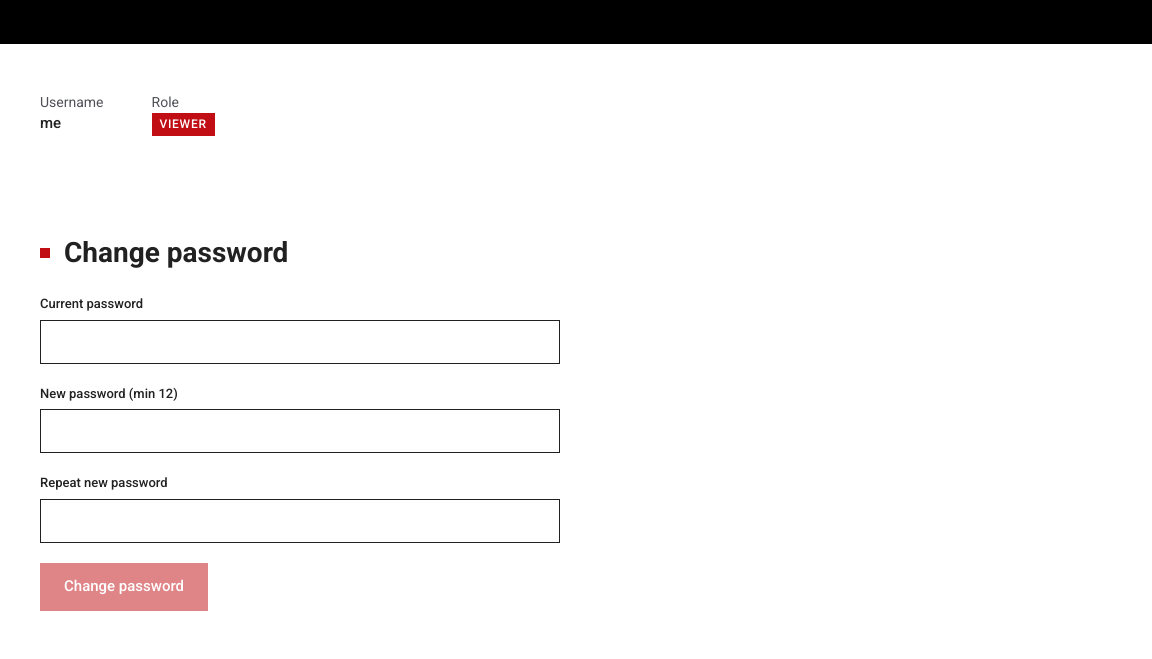
it: ProfilePage › shows a wrong current password inline
The image size is (1152, 659).
(page scrolled)
Type "bad-password" into the password field labelled "Current password" at (300, 342), box x1=40 y1=320 x2=560 y2=364
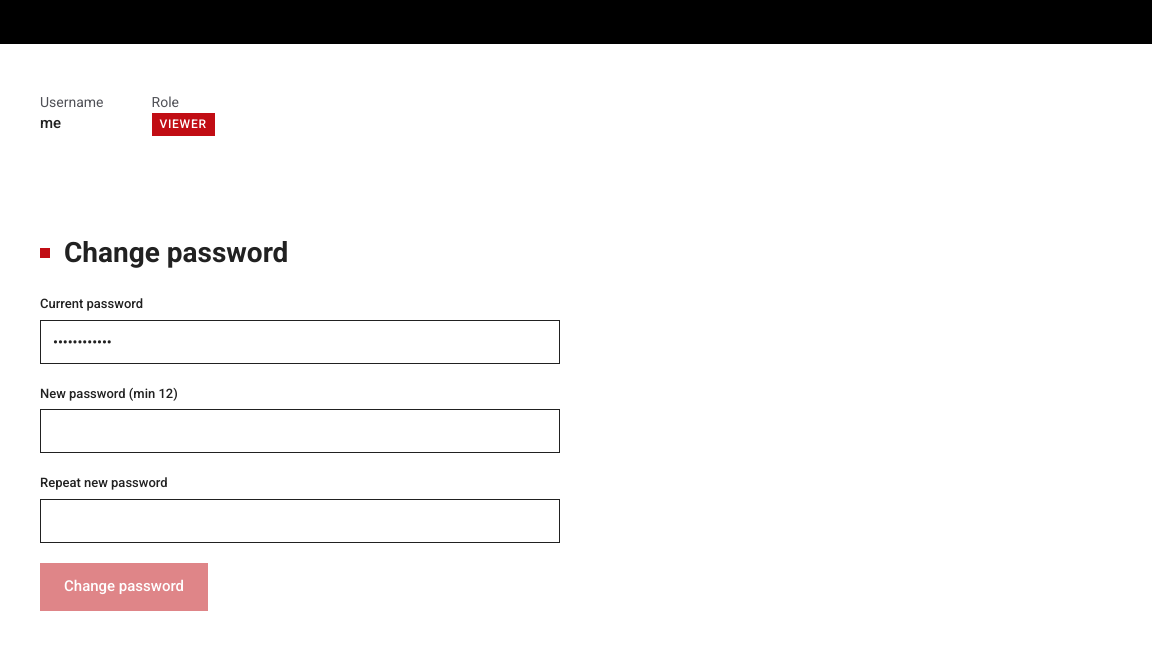
Type "new-long-password" into the password field labelled "New password (min 12)" at (300, 431), box x1=40 y1=409 x2=560 y2=453
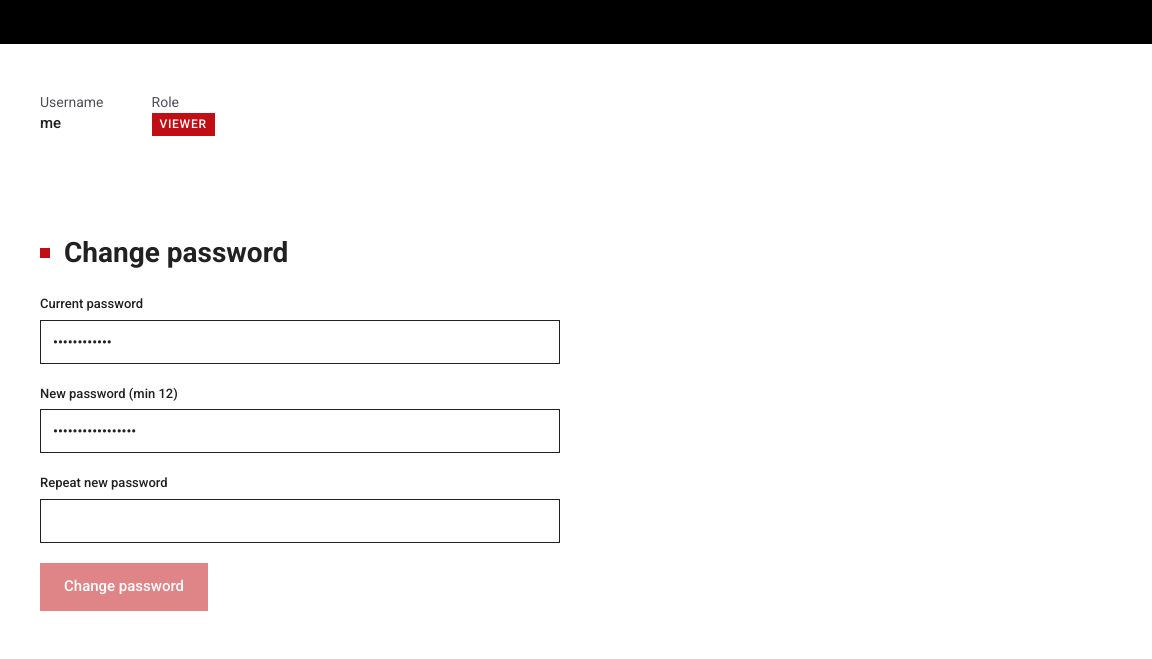
Type "new-long-password" into the password field labelled "Repeat new password" at (300, 521), box x1=40 y1=499 x2=560 y2=543
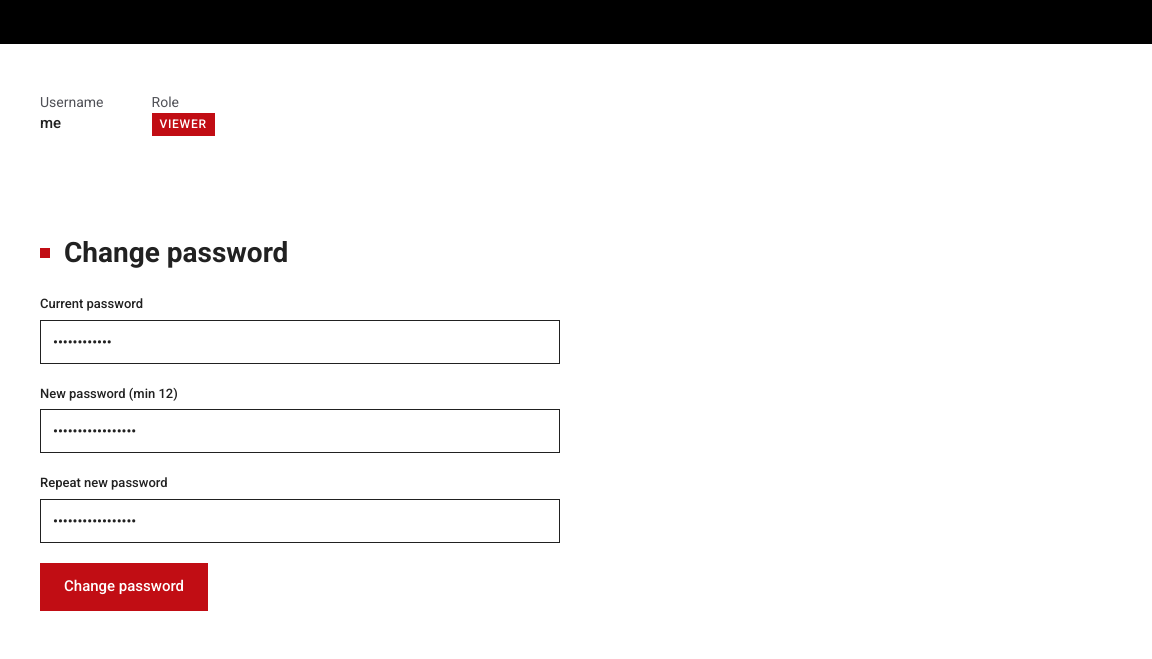
Click the button "Change password" at (124, 587), box x1=40 y1=563 x2=208 y2=611
(page scrolled)
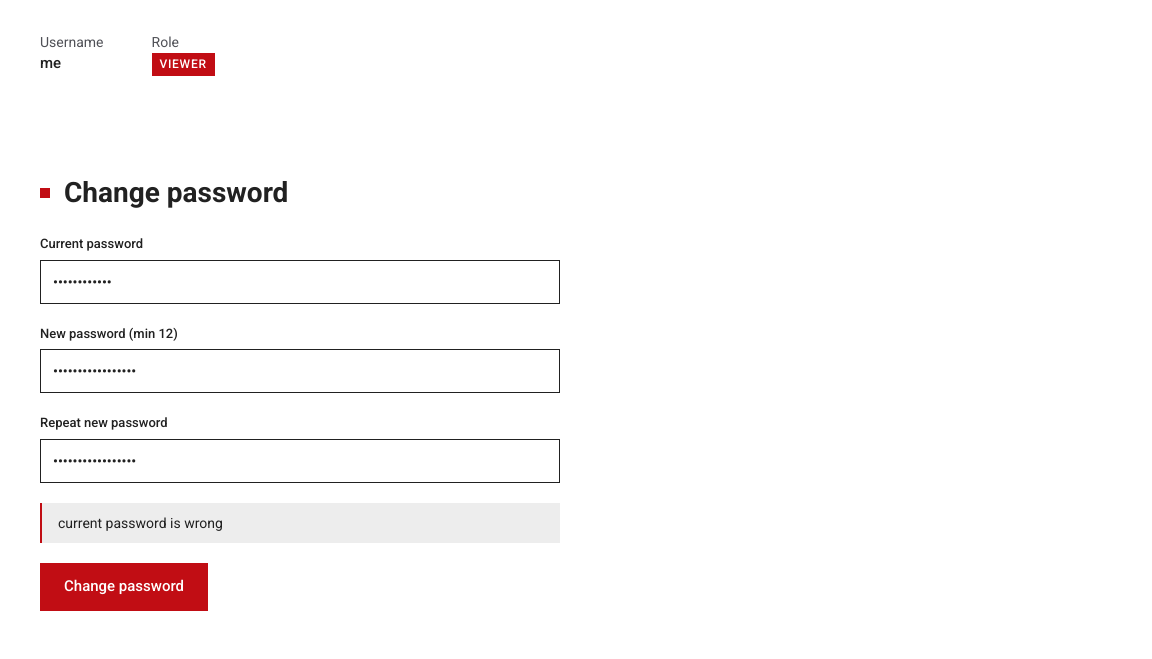
expect the message reads "current password is wrong": met, box x1=58 y1=515 x2=223 y2=531
